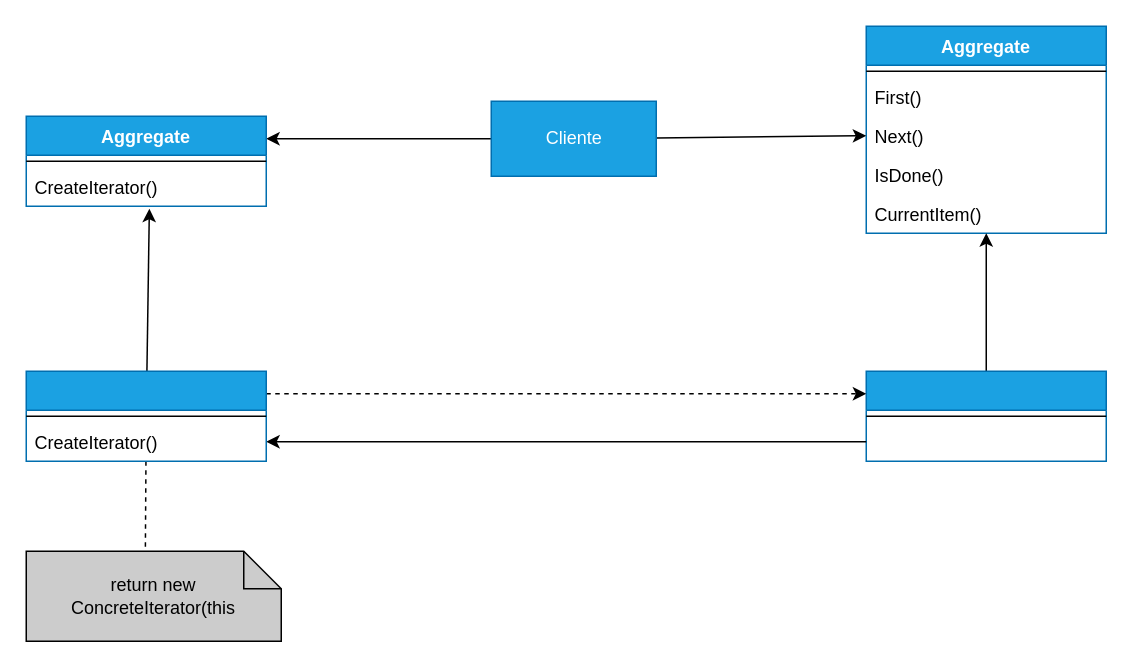
This 1133x668 diagram has some shape labels left out. The box of each missing label's shape, as (x1, y1, x2, y2) in pixels:
ConcreteAggregate: (25, 370, 266, 461)
ConcreteIterator: (865, 370, 1106, 461)
